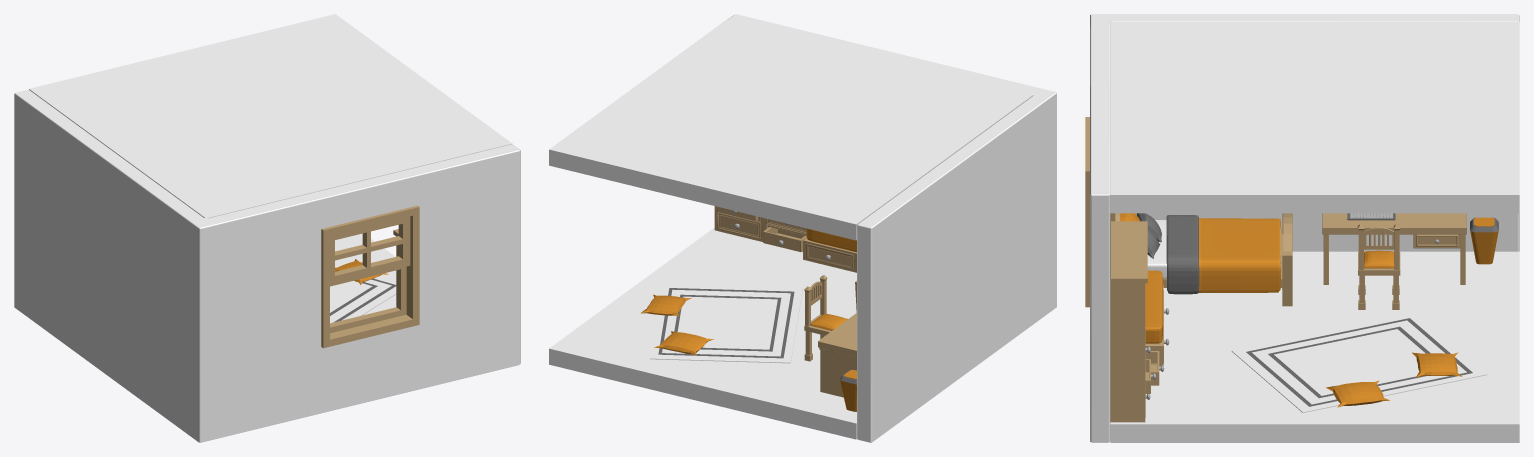
3 views of the same model, side by side, from view 1: azimuth 30°, elevation 25°; view 2: azimuth 150°, elevation 25°; view 3: azimuth 270°, elevation 25° (orthographic). The views are drawn at different scales.
Parts seen in each view (by area): view 1: Wall, Floor.001, Window, Carpet, Floor; view 2: Floor.001, Wall, Floor, Carpet, Bookshelf, Table, Sofa, Chair, Cushion.001, Cushion, Trash bin; view 3: Floor.001, Floor, Wall, Carpet, Bed, Bookshelf, Table, Chair, Sofa, Bed frame, Trash bin, Cushion (+3 smaller).
Part boxes in pixels (x1,y1,x2,y2): Wall: (14, 89, 520, 442); Floor.001: (29, 14, 512, 218); Window: (321, 205, 419, 348); Carpet: (330, 263, 396, 323); Floor: (335, 233, 396, 315); Floor.001: (549, 19, 1032, 240); Wall: (727, 14, 1056, 442); Floor: (549, 227, 856, 439); Carpet: (650, 283, 802, 363); Bookshelf: (714, 206, 806, 251); Table: (818, 313, 856, 397); Sofa: (803, 228, 856, 272); Chair: (804, 275, 847, 361); Cushion.001: (654, 331, 714, 355); Cushion: (640, 294, 691, 316); Trash bin: (839, 369, 856, 411); Floor.001: (1110, 22, 1519, 213); Floor: (1110, 251, 1519, 442); Wall: (1090, 14, 1519, 442); Carpet: (1231, 312, 1487, 412); Bed: (1147, 215, 1281, 294); Bookshelf: (1110, 221, 1164, 422); Table: (1322, 213, 1466, 284); Chair: (1357, 224, 1400, 309); Sofa: (1145, 270, 1169, 366); Bed frame: (1115, 213, 1292, 306); Trash bin: (1470, 217, 1498, 264); Cushion: (1326, 380, 1390, 407).
Bounding box in the file's own units: 8.4 × 5.37 × 8.49.
